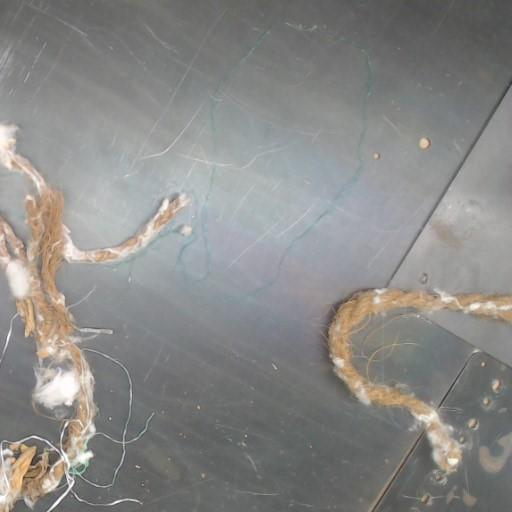packet: (0, 123, 187, 511), (327, 289, 511, 473)
thread: (46, 349, 153, 511)
